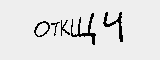К: (56, 17, 71, 39)
О: (29, 18, 50, 40)
Т: (48, 20, 63, 39)
Ч: (103, 10, 126, 44)
Щ: (71, 13, 100, 49)
